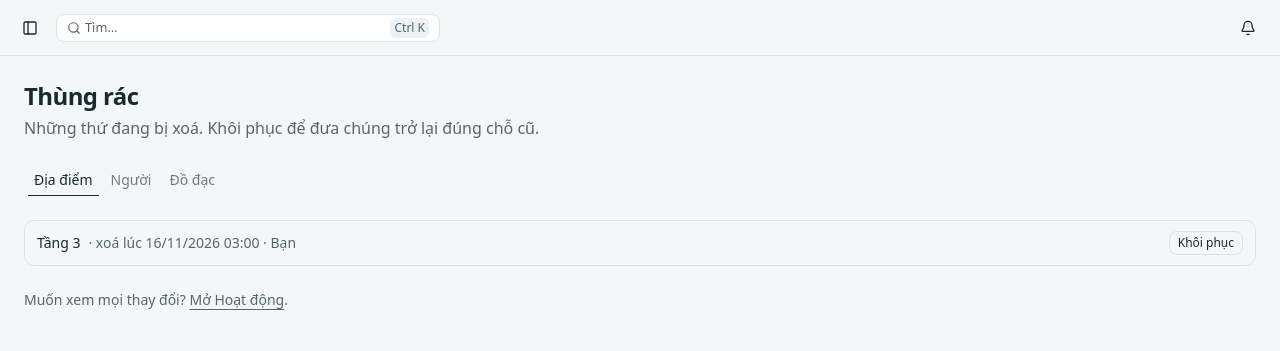
it: staleRowIsRefreshedAfterAVersionConflict
The width and height of the screenshot is (1280, 351).
Expected: the text "Tầng 3" is shown, [37,233,80,253]
Click the button with aria-label "Khôi phục Tầng 3" at (1206, 243), box [1169,231,1243,255]
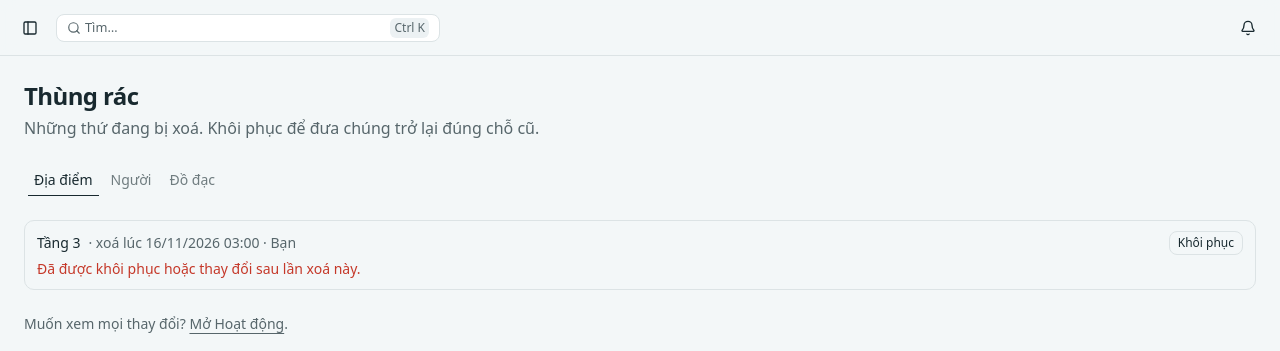
Expected: the text "Đã được khôi phục hoặc thay đổi sau lần xoá này." is shown, [37,259,360,278]
